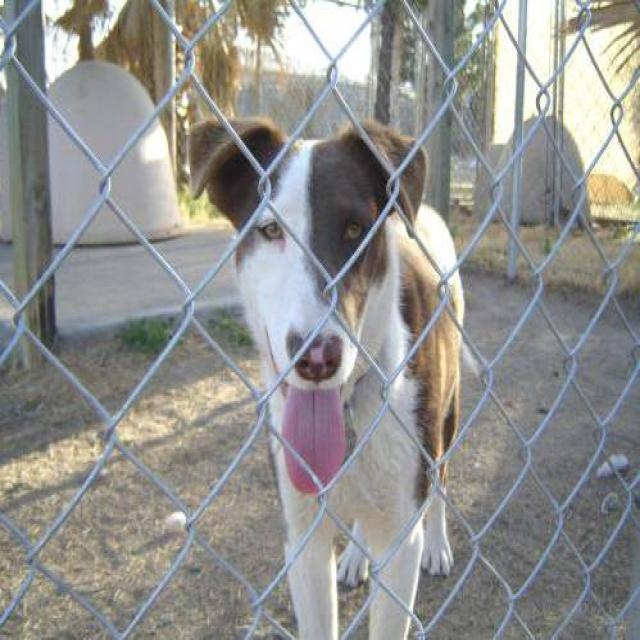dog: (186, 114, 467, 638)
